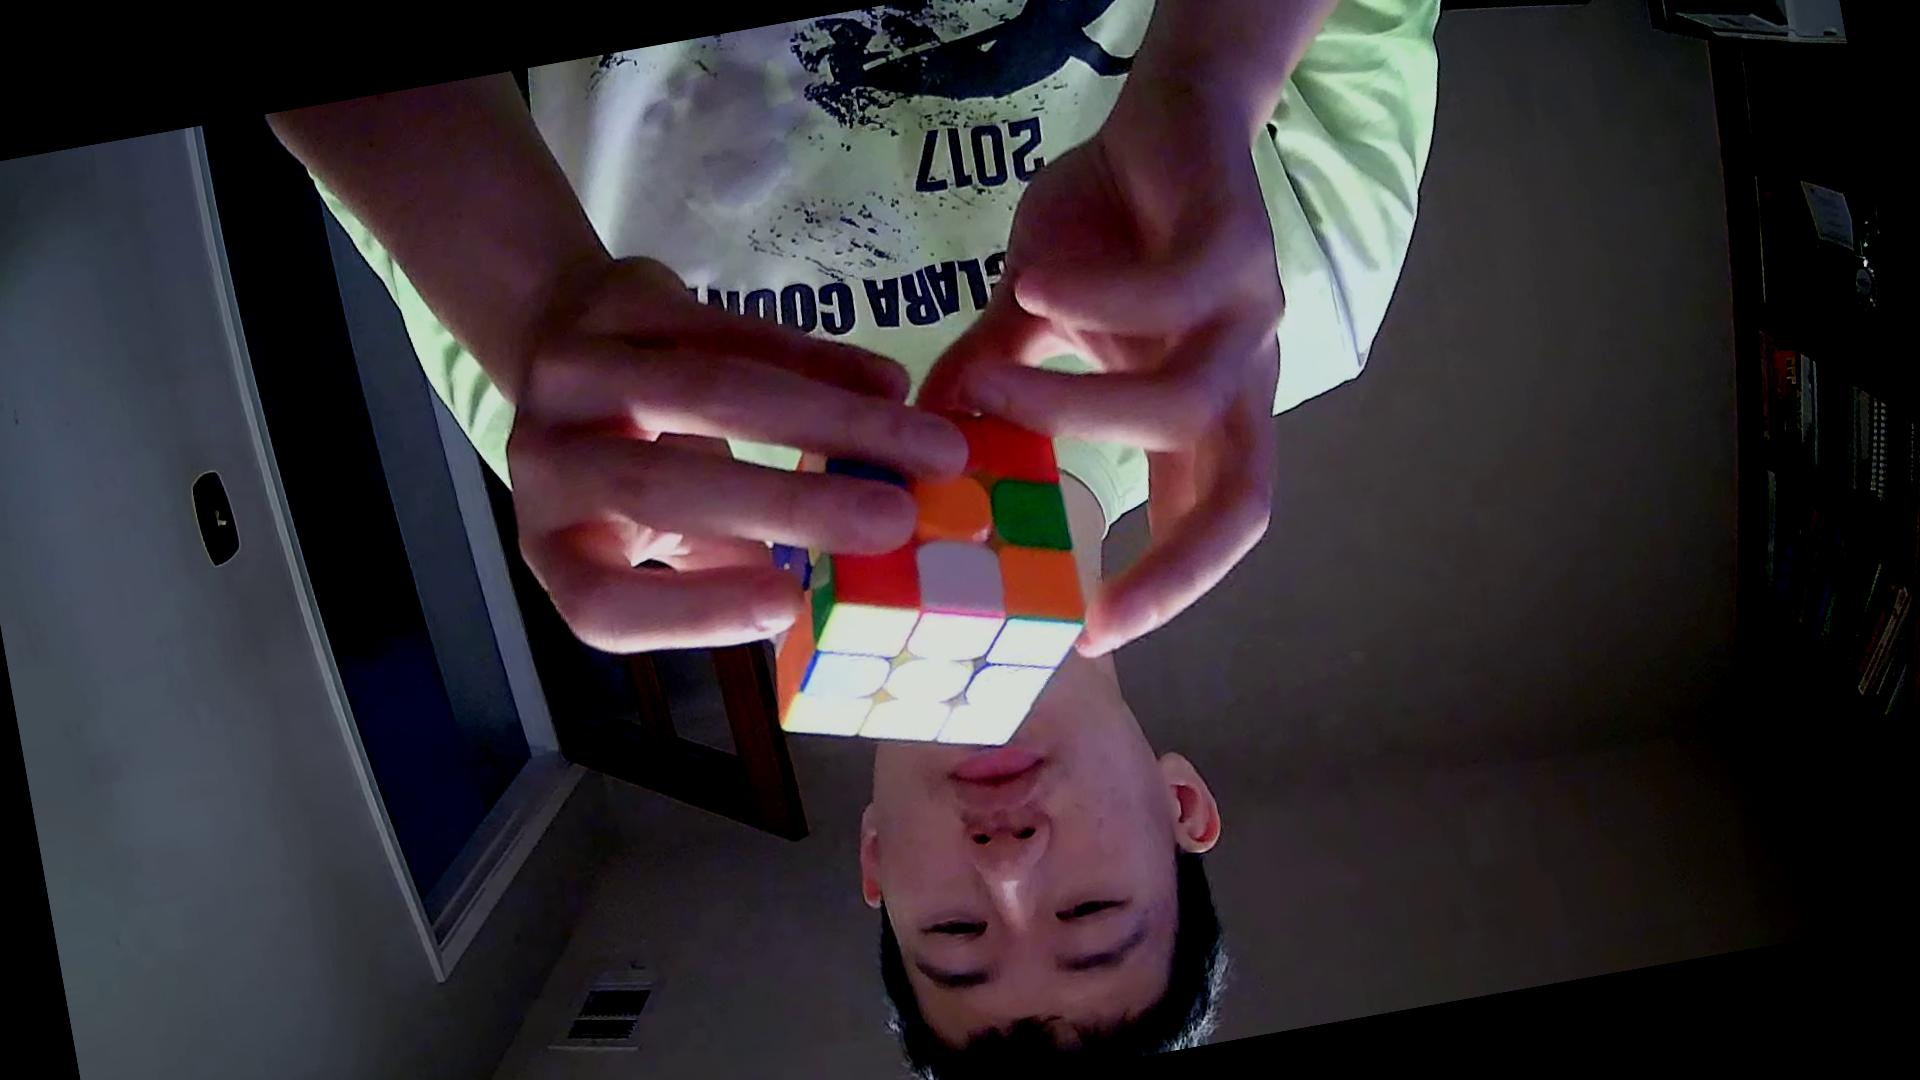Rubiks-Cube: (716, 386, 1112, 785)
